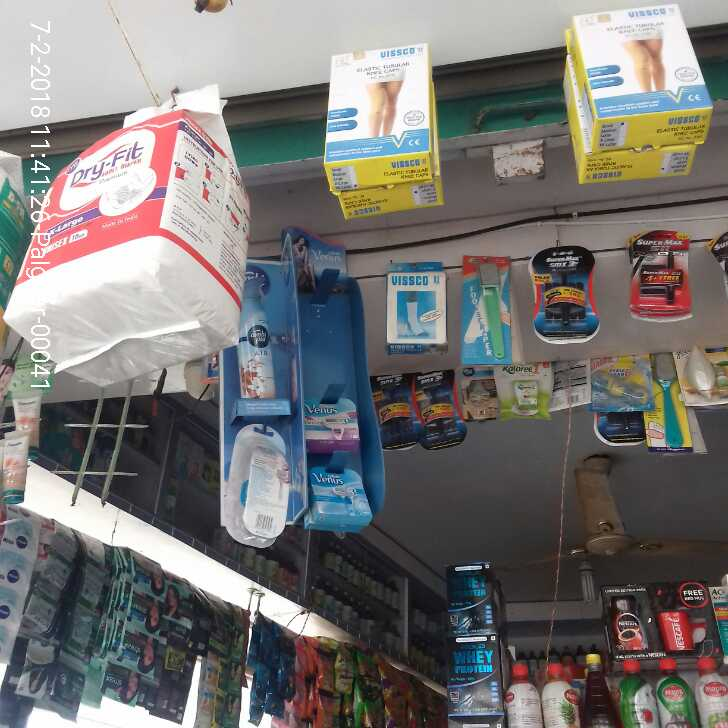home: (238, 284, 275, 404)
venus: (302, 398, 362, 449), (312, 469, 367, 520)
